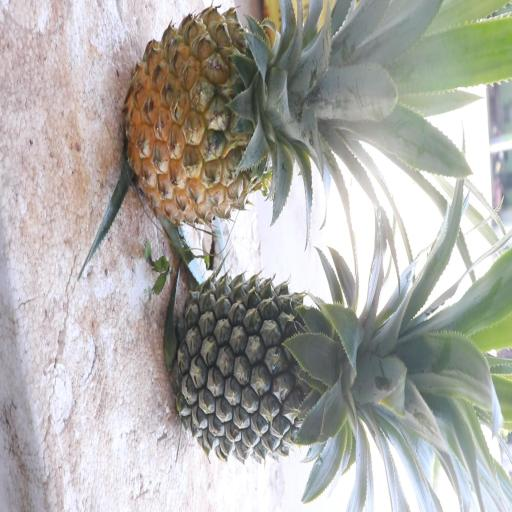Pineapple - v8 v1: (125, 4, 418, 234)
